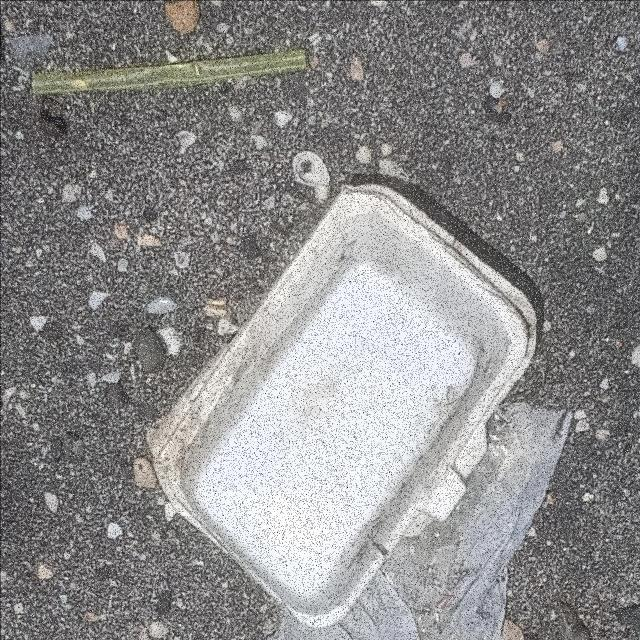plastic_waste: (33, 49, 309, 93)
styrofoam_waste: (149, 183, 540, 629)
